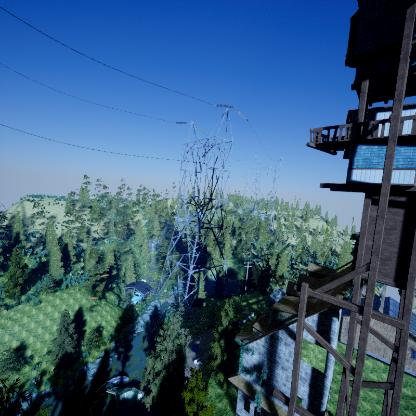tower: (158, 104, 249, 303)
